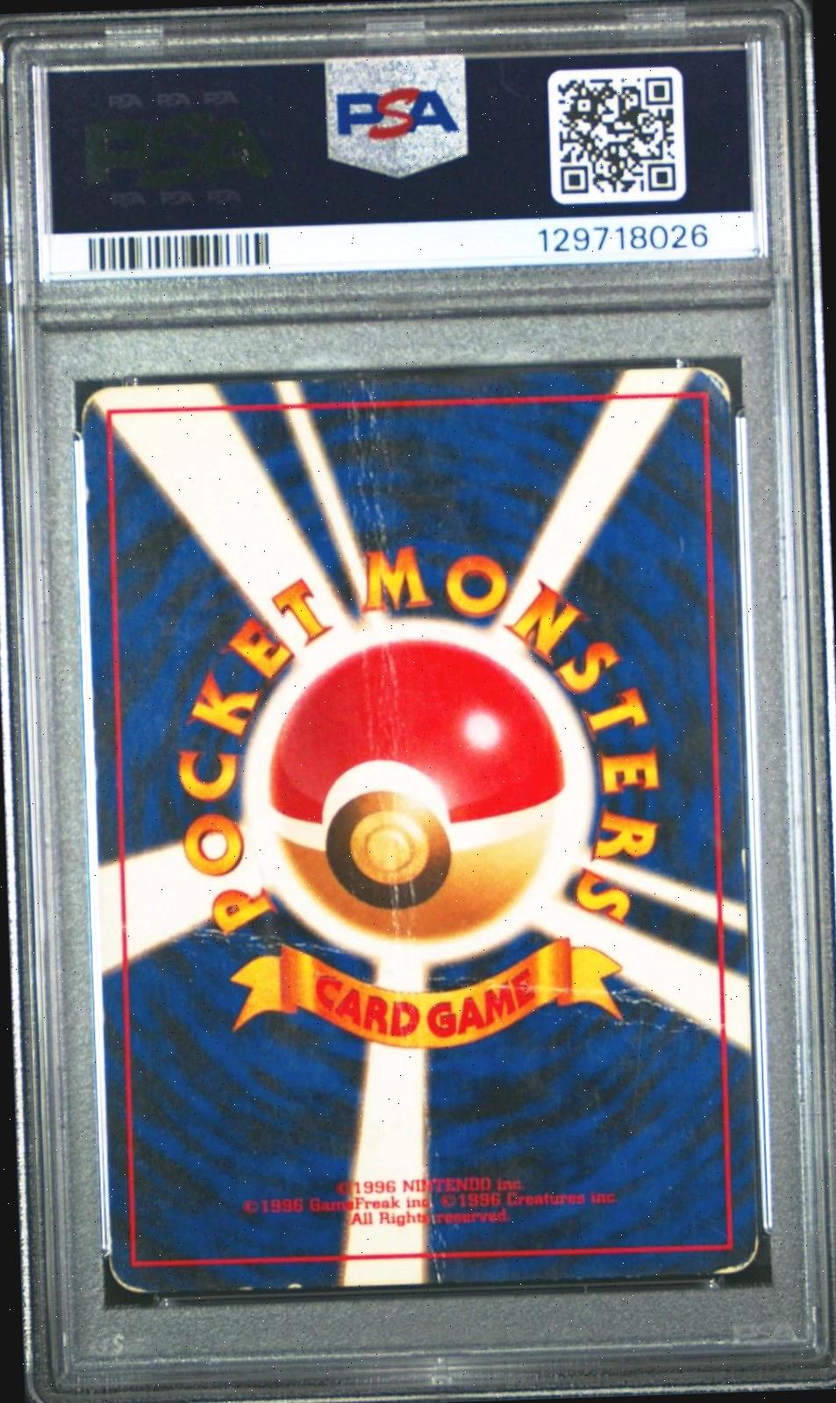card-2UtV: (80, 366, 759, 1294)
